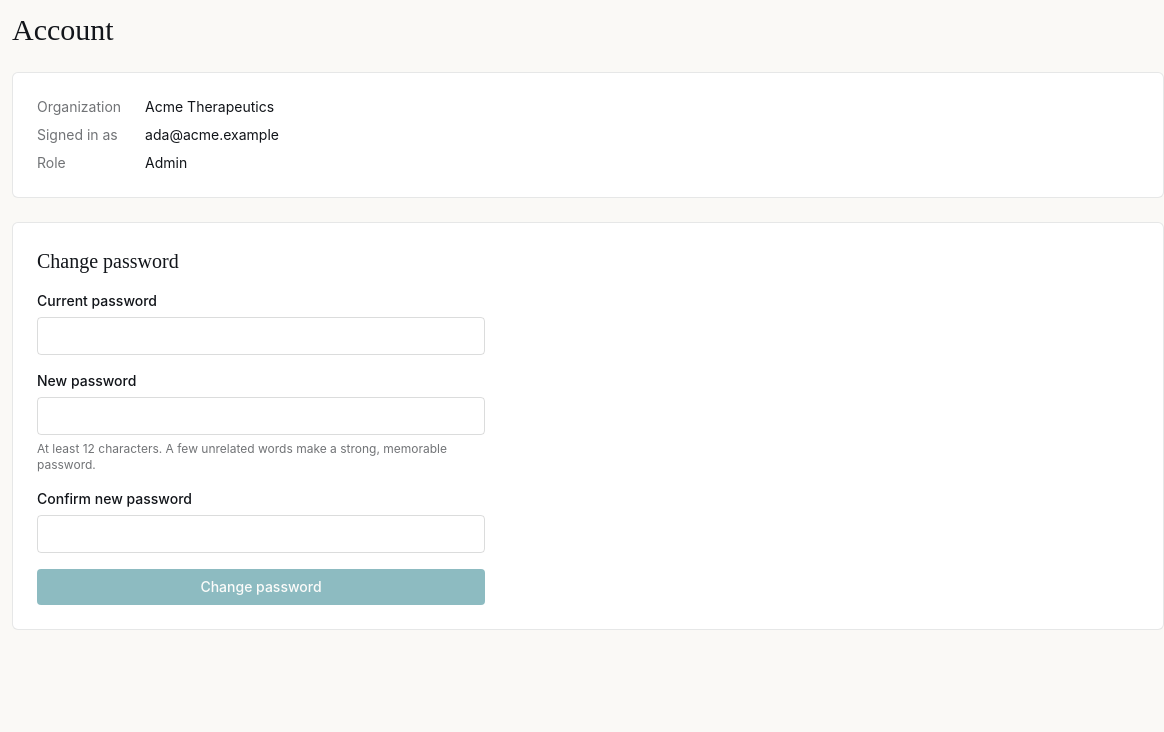
Test: Account › shows the signed-in user and changes their password
Expected: the text "ada@acme.example" is shown, x1=145 y1=126 x2=279 y2=143
In the password field labelled "Current password": x=261, y=336 x1=37 y1=317 x2=485 y2=355, type "correct horse battery"
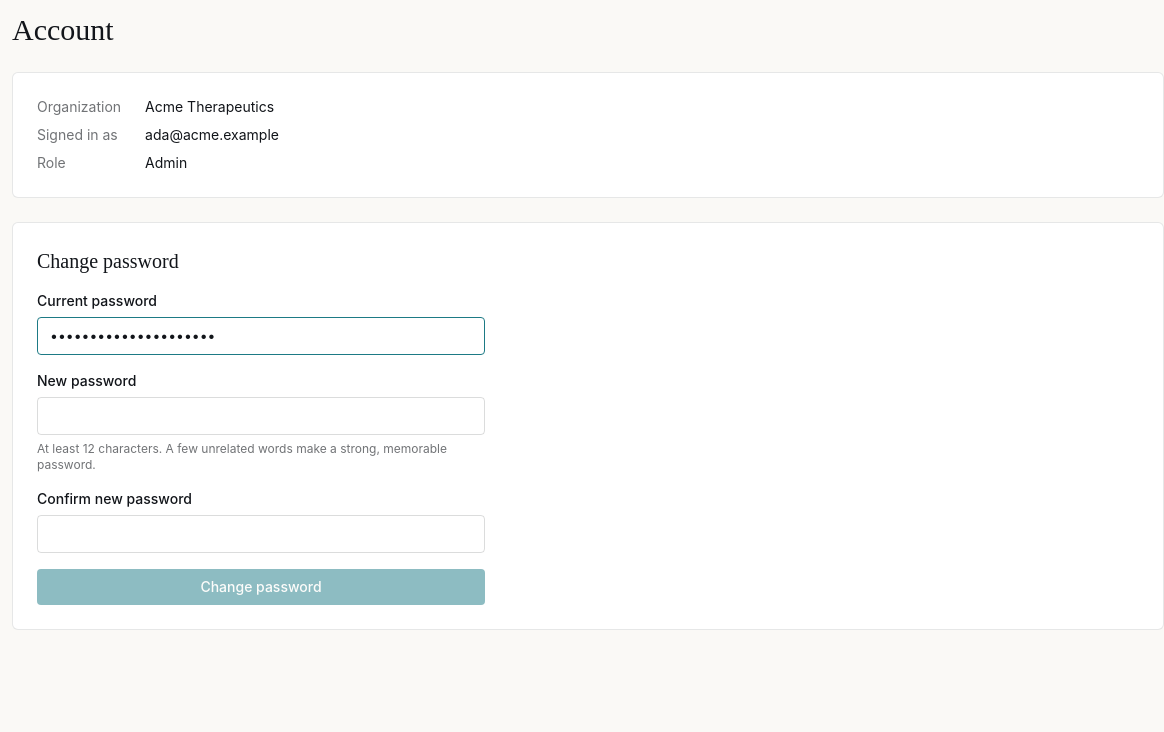
In the password field labelled "New password": x=261, y=416 x1=37 y1=397 x2=485 y2=435, type "an even better passphrase"
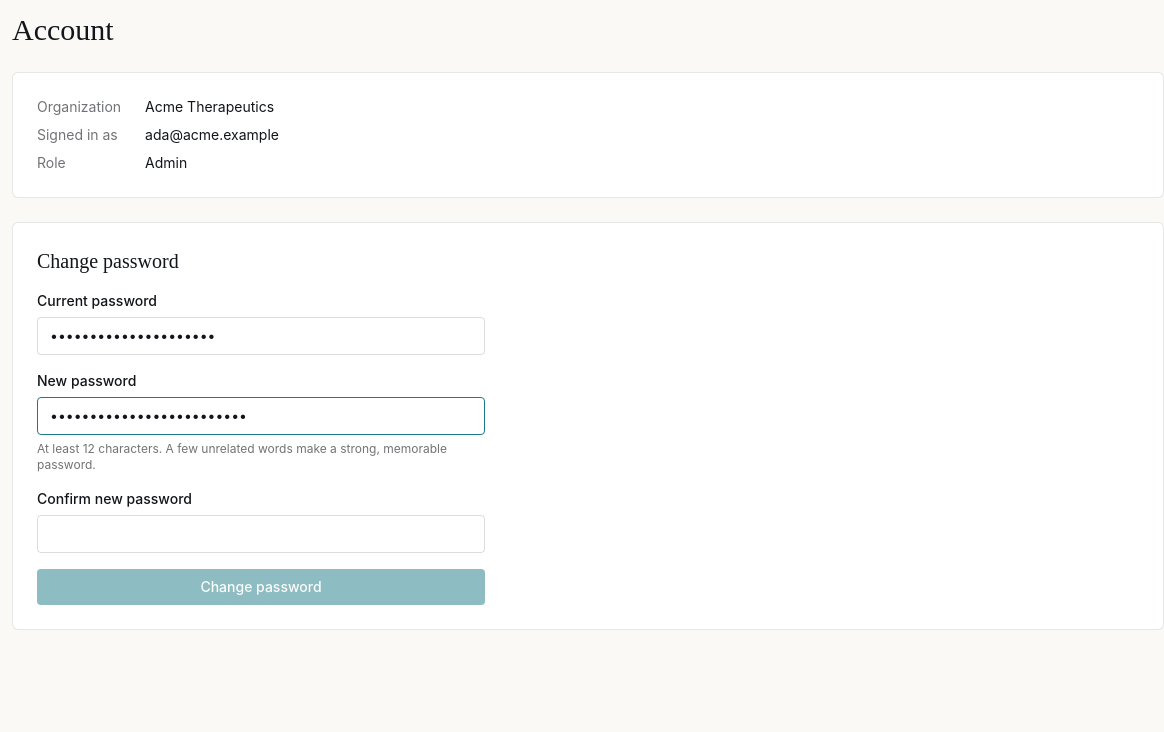
In the password field labelled "Confirm new password": x=261, y=534 x1=37 y1=515 x2=485 y2=553, type "an even better passphrase"
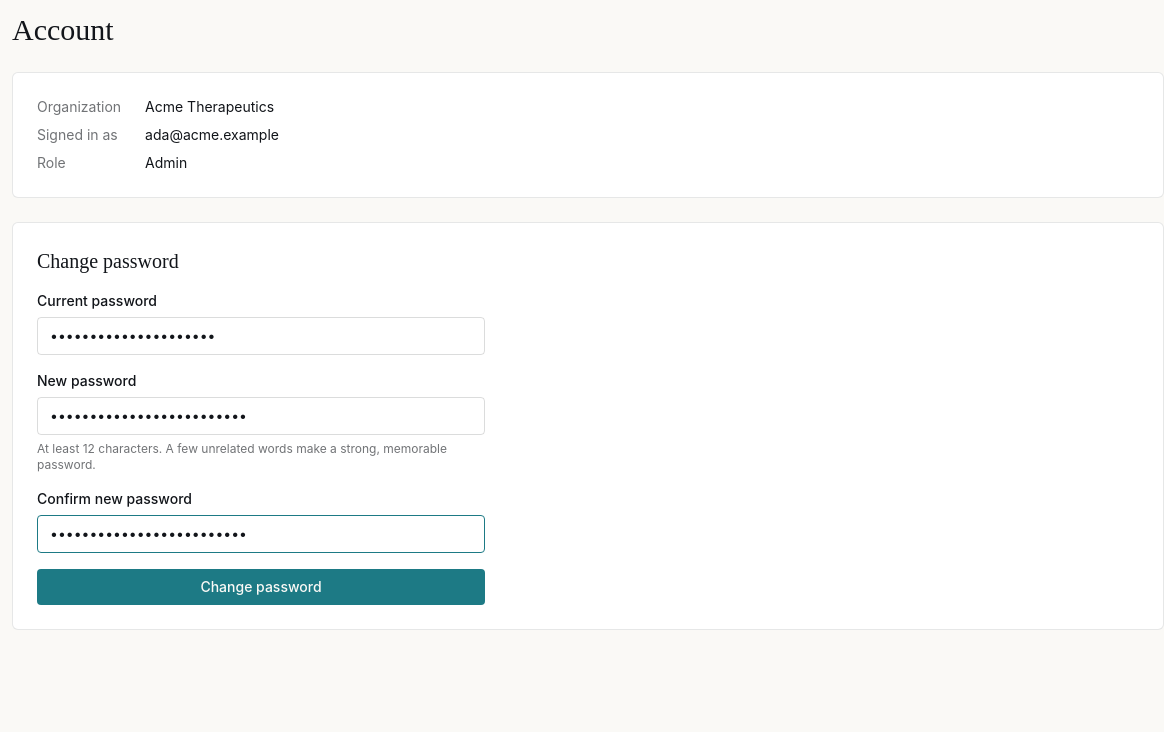
Click the button "Change password": x=261, y=587 x1=37 y1=569 x2=485 y2=605
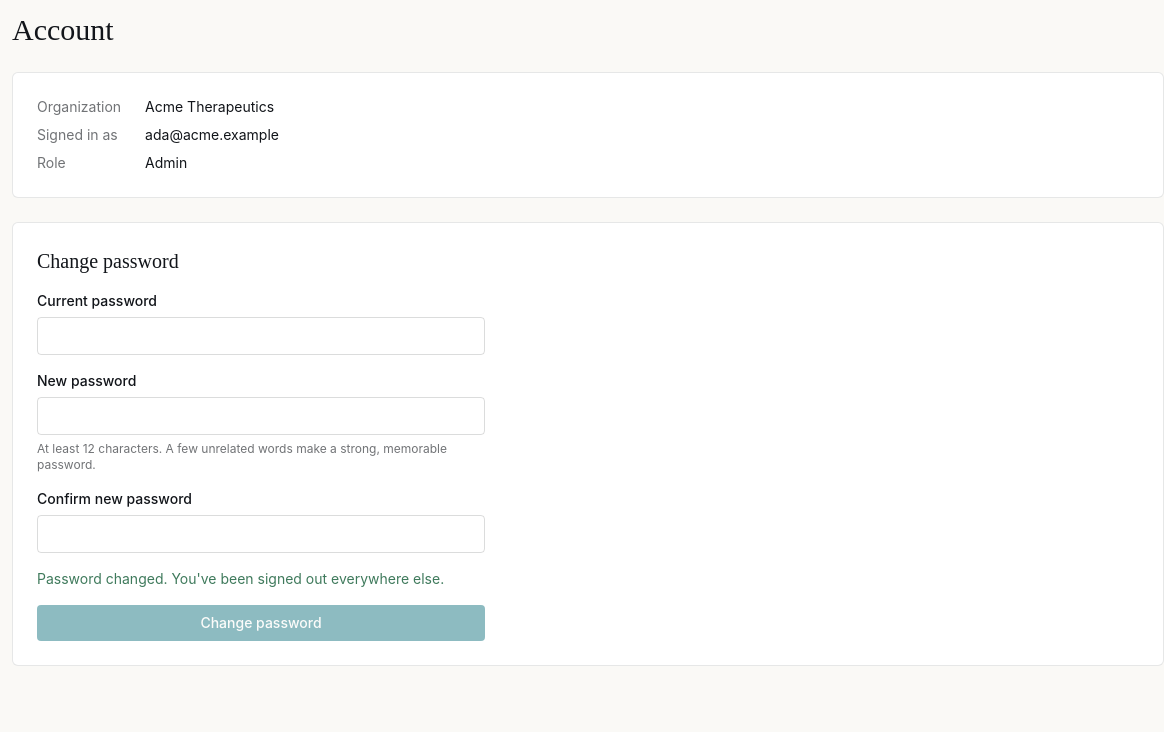
Now the message shows "Password changed", box x1=37 y1=570 x2=444 y2=587
